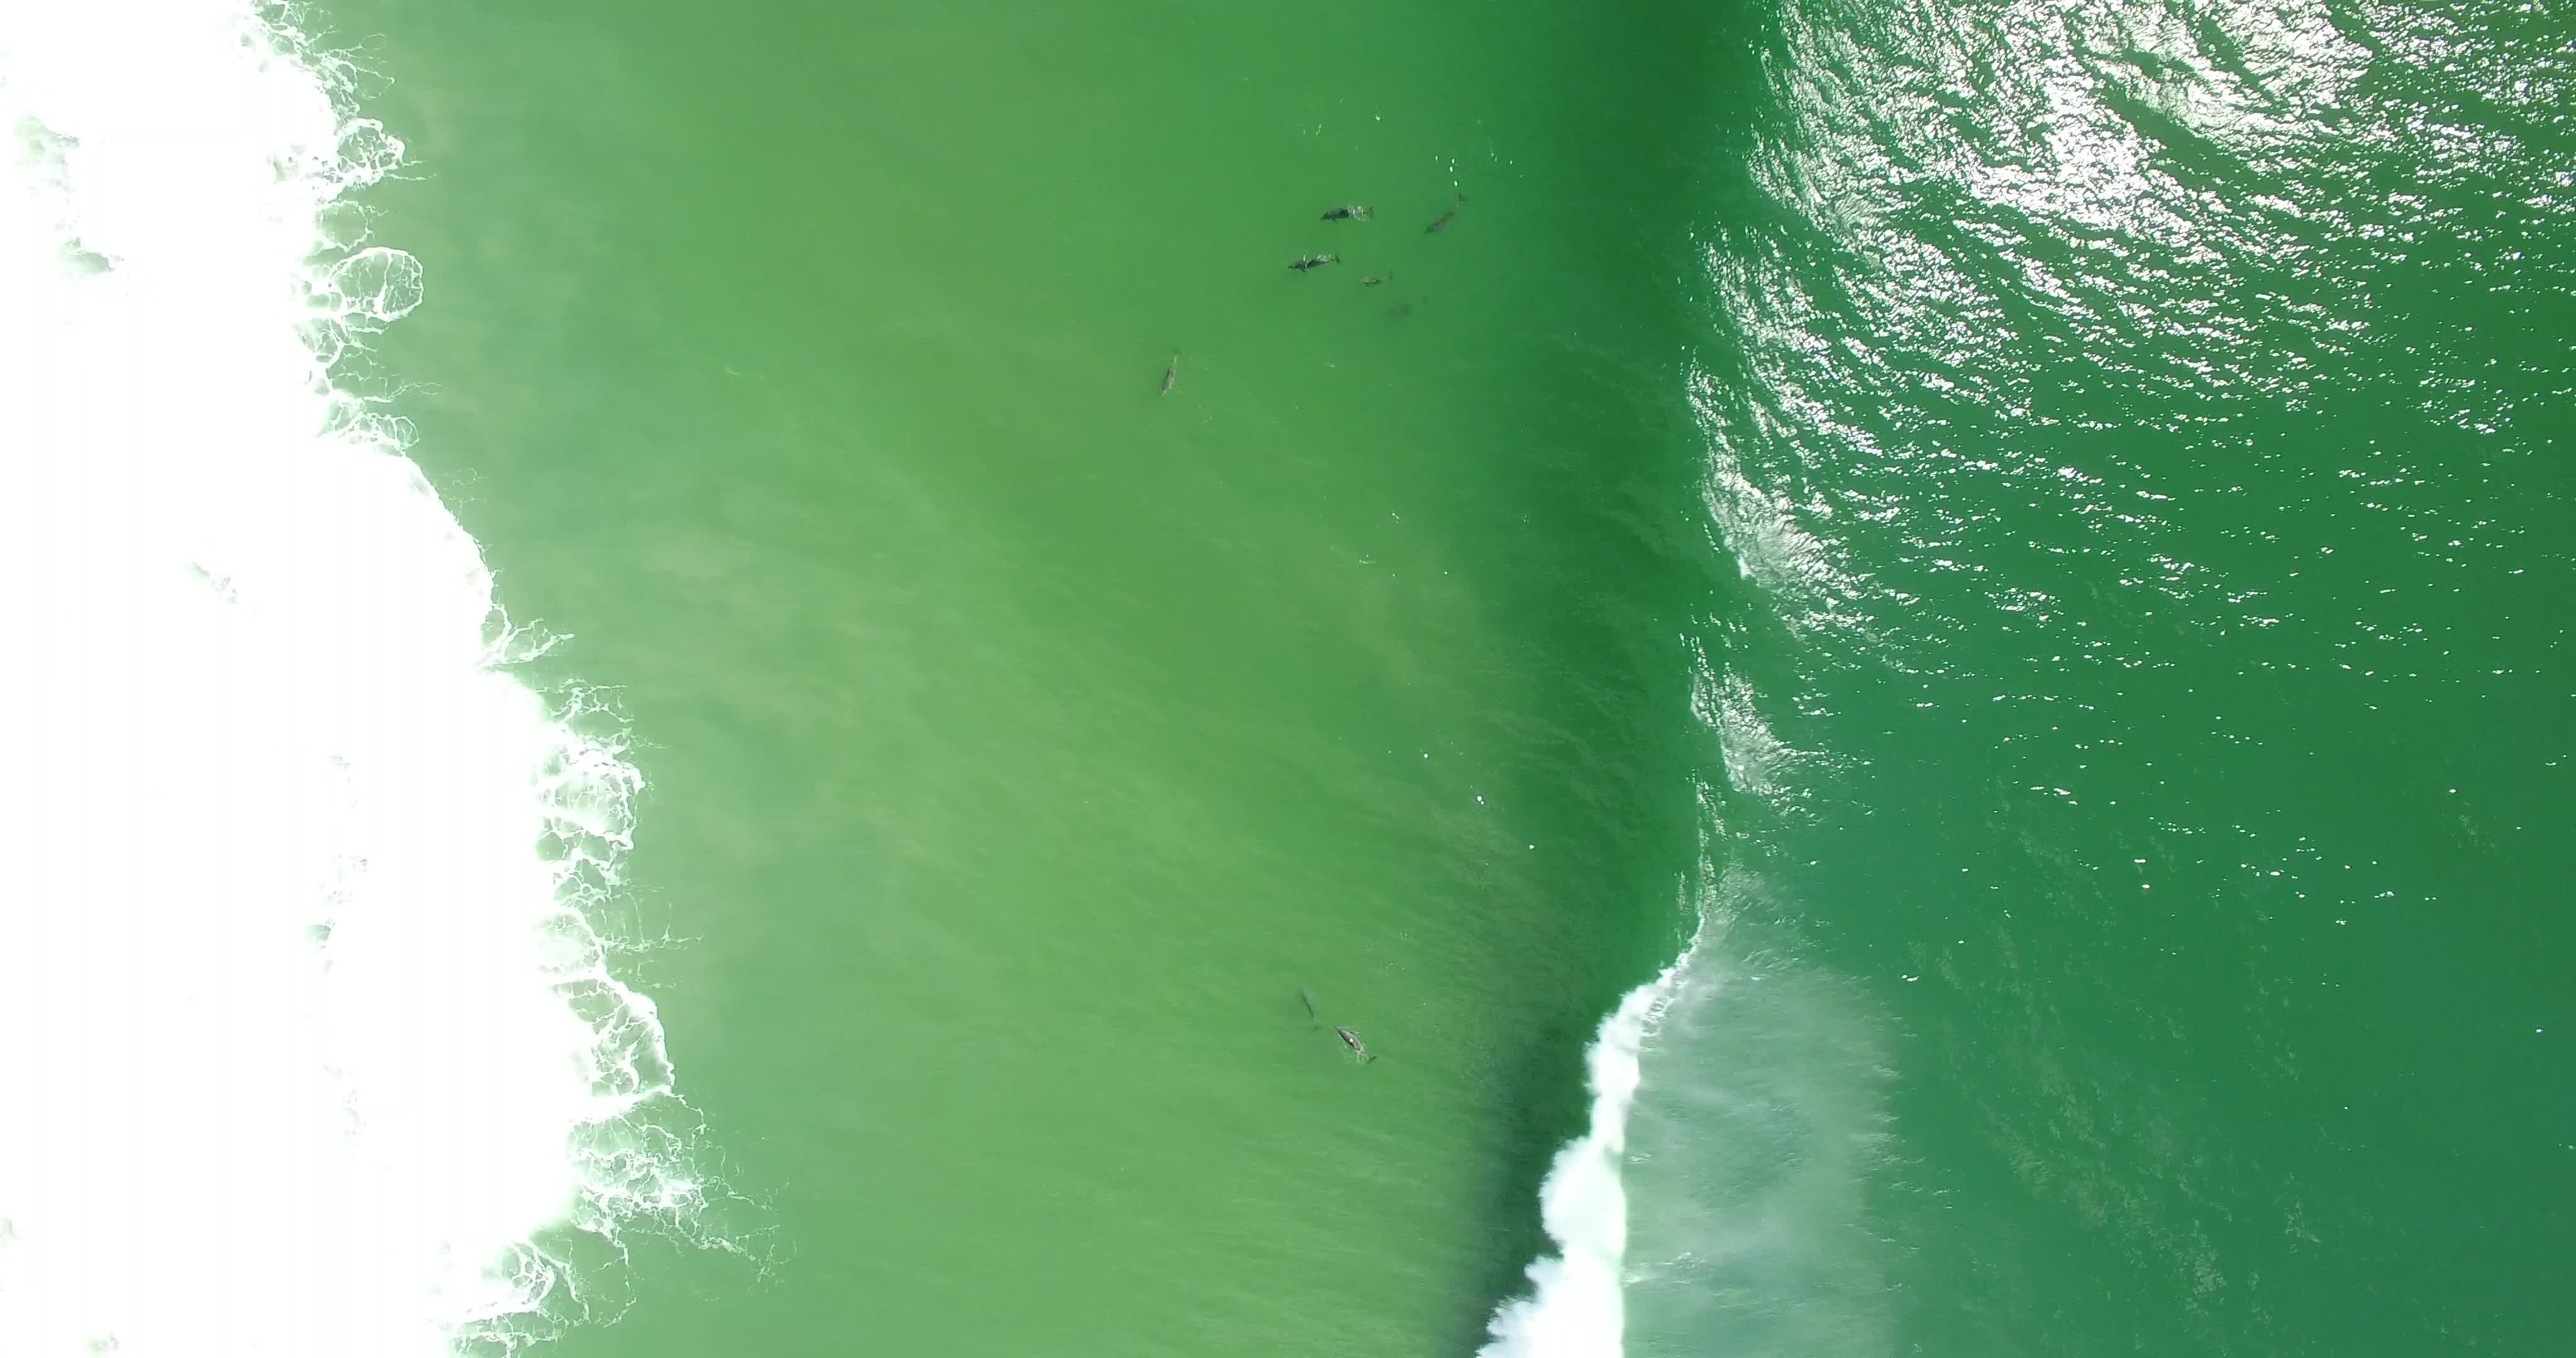dolphin: (1302, 987, 1378, 1075), (1406, 176, 1474, 250), (1136, 329, 1194, 411), (1363, 266, 1433, 325), (1283, 239, 1365, 288), (1308, 174, 1371, 230), (1276, 961, 1325, 1019), (1339, 244, 1397, 291)
